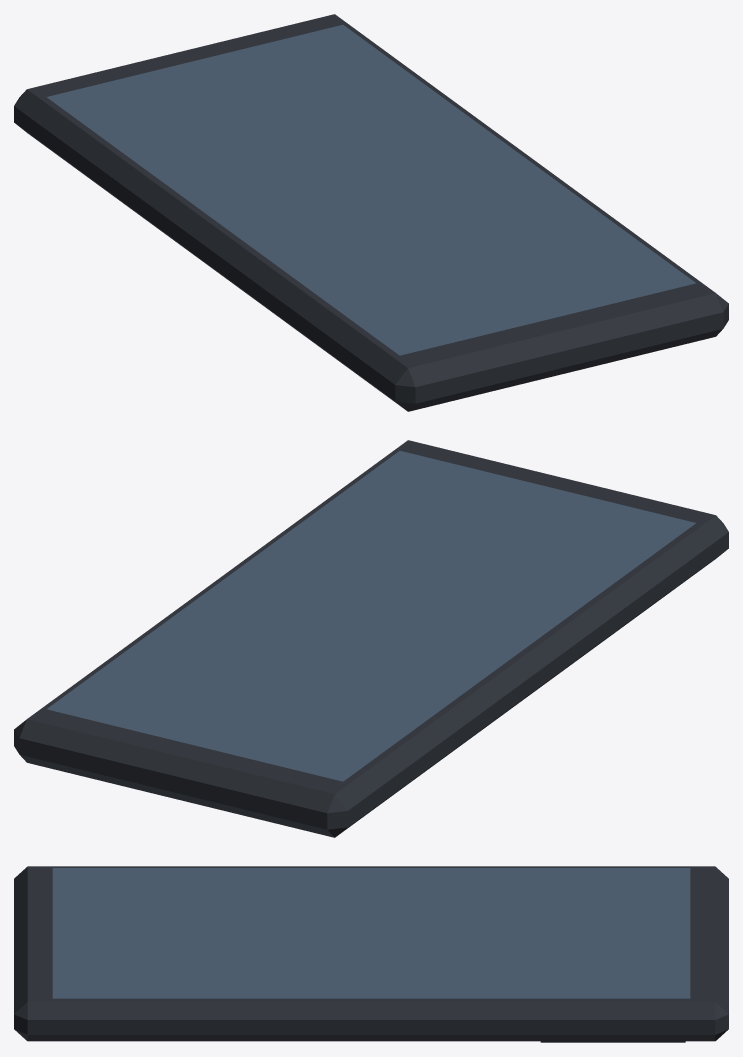
The model's file is tl_prop_phone_v01.glb.
The picture shows the model from 3 angles, top to bottom: view 1: azimuth 30°, elevation 25°; view 2: azimuth 150°, elevation 25°; view 3: azimuth 270°, elevation 25°; orthographic projection. The views are drawn at different scales.
Parts seen in each view (by area): view 1: tl_prop_phone_v01; view 2: tl_prop_phone_v01; view 3: tl_prop_phone_v01.
Boxes of the visible parts, x1,y1,x2,y2 form: tl_prop_phone_v01: [14, 14, 728, 411]; tl_prop_phone_v01: [14, 440, 728, 837]; tl_prop_phone_v01: [14, 866, 728, 1042].
Bounding box in the file's own units: 0.072 × 0.0114 × 0.148.
